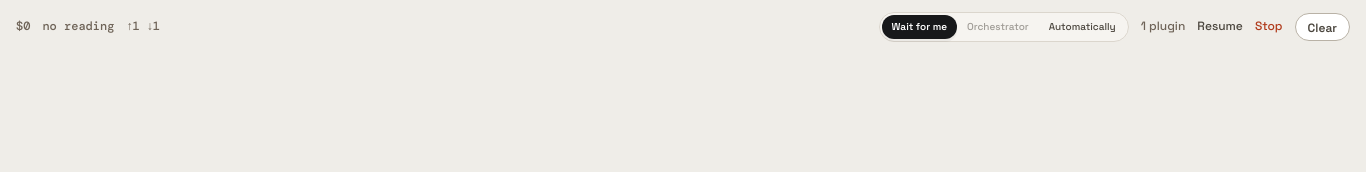
SessionStatusline › shows the run's refusal message when resume answers ok false, without touching the run
This screenshot has width=1366, height=172.
Click the button "Resume". click: point(1220, 27)
box: [1197, 18, 1243, 36]
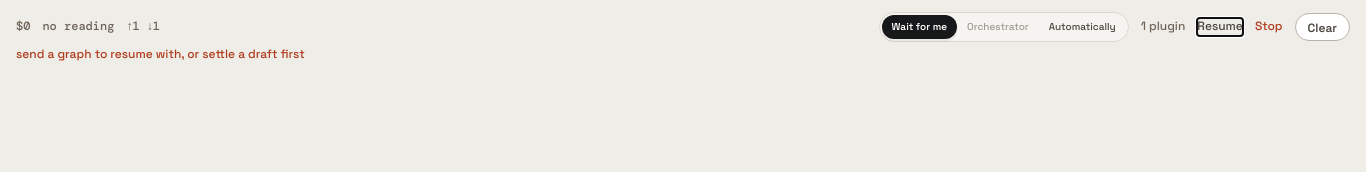
Expected: the message reads "send a graph to resume with, or settle a draft first", [16, 46, 305, 62]
